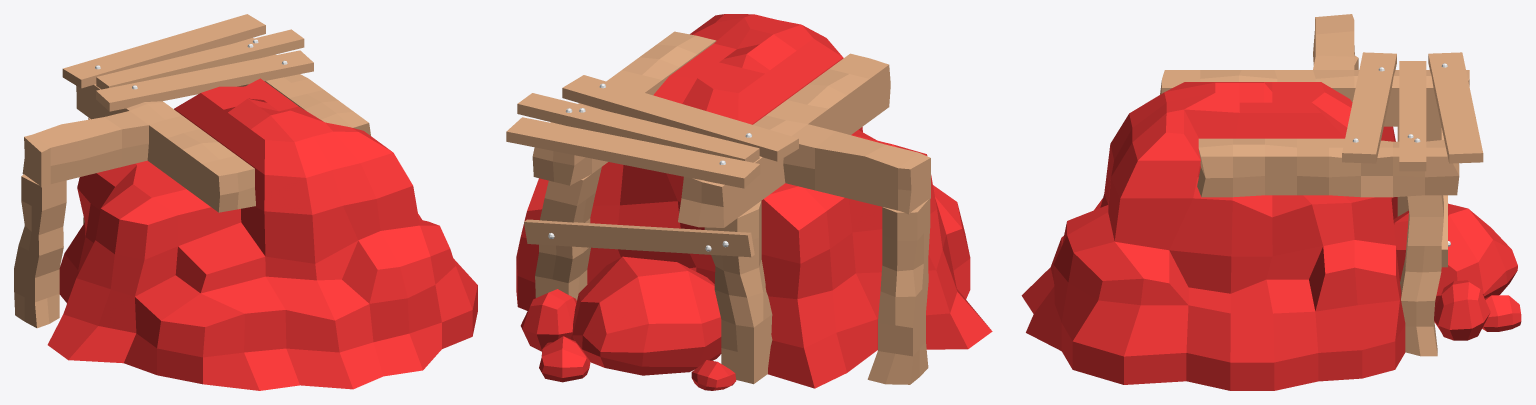
File: Mine_abandonnée.FBX
3 renders of one model, left to right at view 1: azimuth 30°, elevation 25°; view 2: azimuth 150°, elevation 25°; view 3: azimuth 270°, elevation 25°, orthographic. The views are drawn at different scales.
Parts seen in each view (by area): view 1: Box007; view 2: Box007; view 3: Box007.
Boxes of the visible parts, x1=… form: Box007: x1=14, y1=14, x2=477, y2=390; Box007: x1=506, y1=14, x2=992, y2=390; Box007: x1=1021, y1=14, x2=1521, y2=390.
Size of the model in its own units: 105 by 56.26 by 115.
